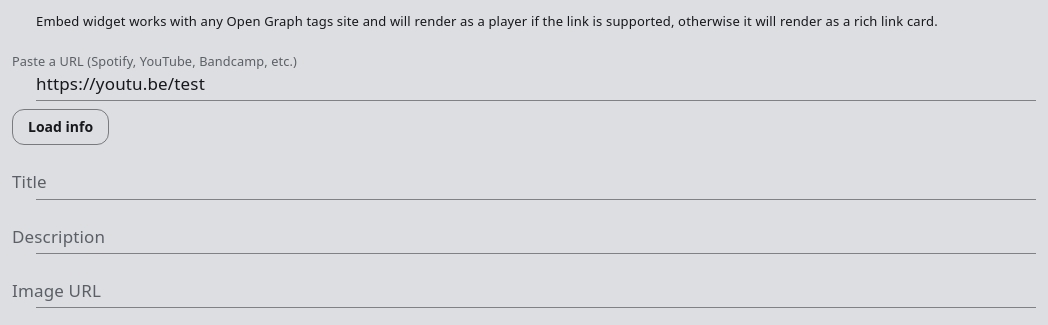
Test: WidgetEditor › loads embed metadata and identifies the resolved renderer
Click the button "Load info": point(61, 127) [12,109,109,145]
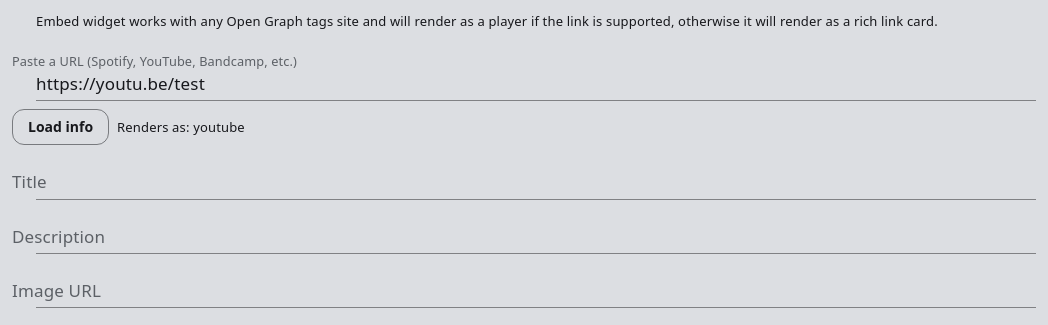
expect the text "Renders as: youtube" is shown: met, box [117,118,245,136]
